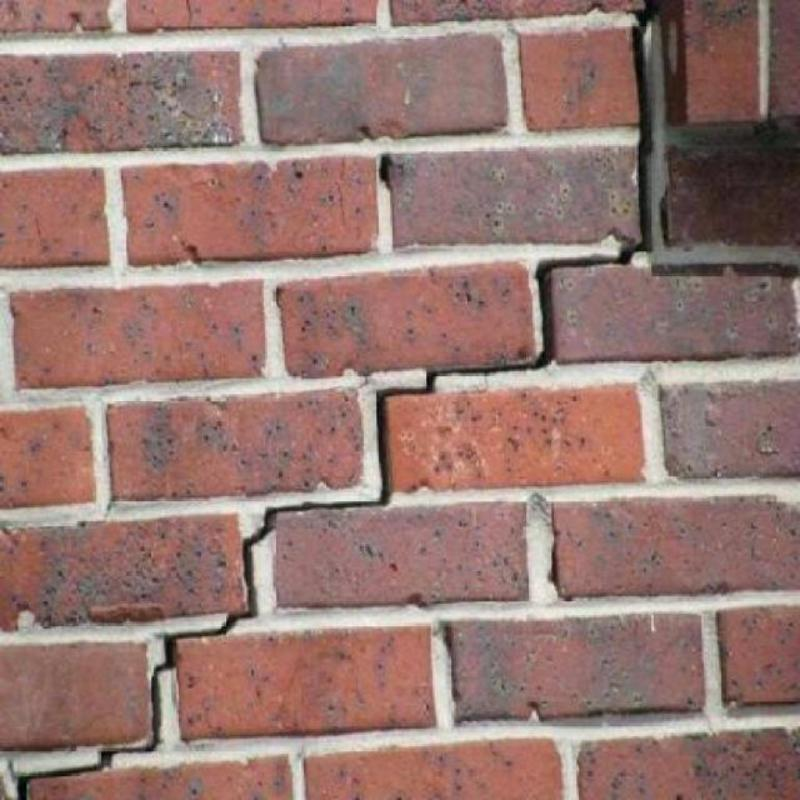pothole: (17, 0, 664, 799), (380, 156, 391, 189)
